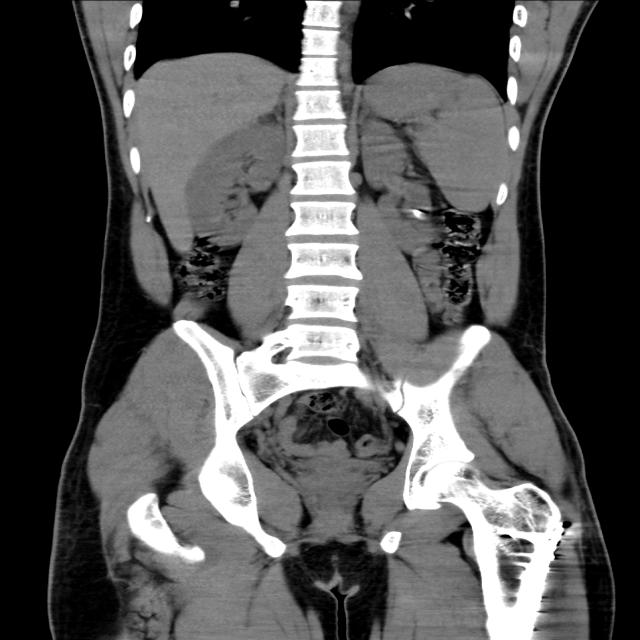kidneystone: (410, 209, 429, 219)
